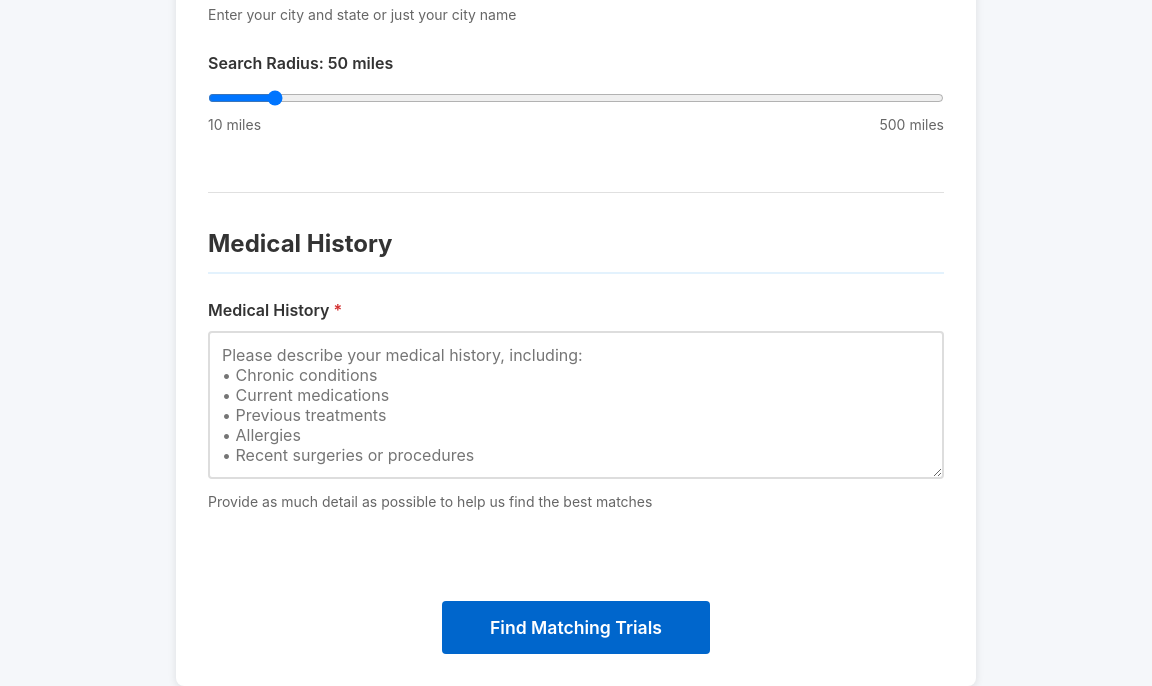
PatientProfileForm › Form Validation - Required Fields › shows error when condition is not selected
(page scrolled)
Step 1. Click the button "Find Matching Trials" → coordinates (576, 628), box [442,601,710,654]
(page scrolled)
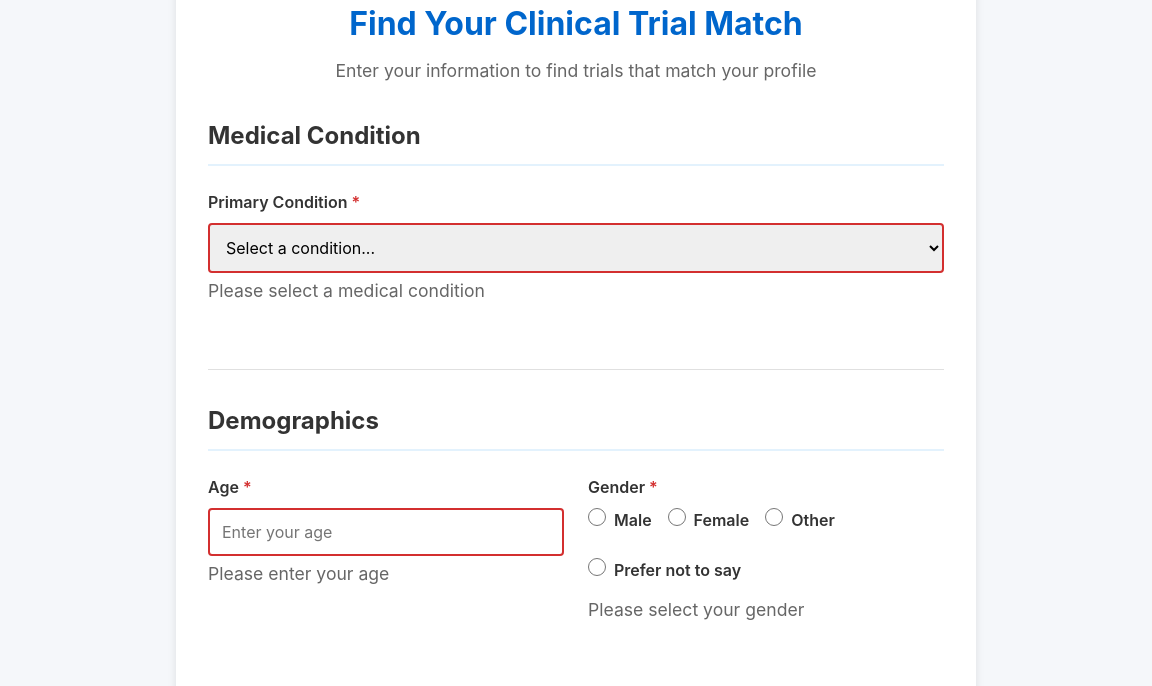
Expected: the text "Please select a medical condition" is shown, [208,280,485,301]
